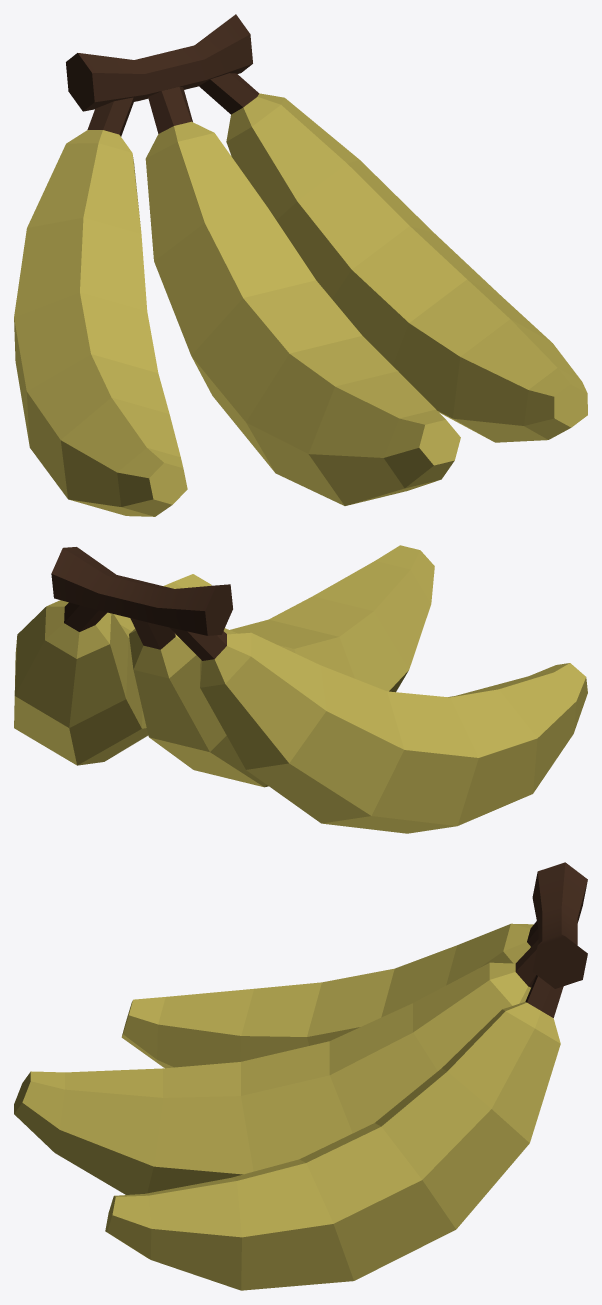
Rendered from Banana.fbx.
3 views of the same model, one above another, from view 1: azimuth 30°, elevation 25°; view 2: azimuth 150°, elevation 25°; view 3: azimuth 270°, elevation 25° (orthographic). The views are drawn at different scales.
Parts seen in each view (by area): view 1: bananes; view 2: bananes; view 3: bananes.
Part boxes in pixels (x1,y1,x2,y2): bananes: (14,14,587,516); bananes: (14,545,587,833); bananes: (14,862,587,1290).
Size of the model in its own units: 2.12 by 1.37 by 2.29.
